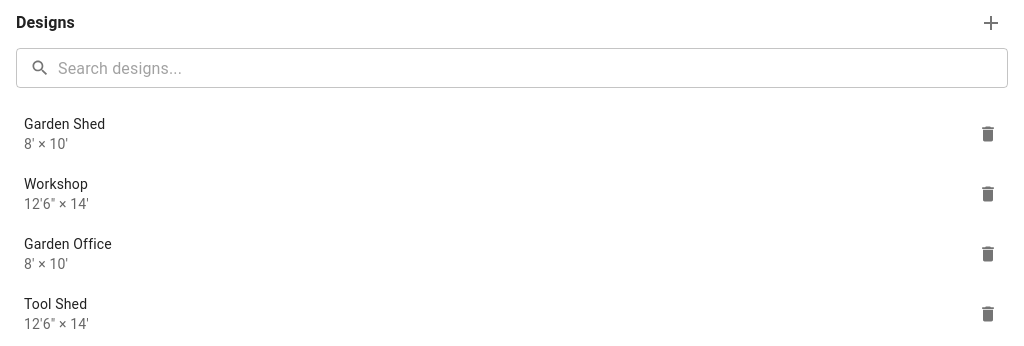
Test: DesignList › shows search box when more than 3 designs and filters results
Note: Type to filter
Type "garden" into the field with placeholder "Search designs..." at (533, 68), box [58, 48, 1008, 88]
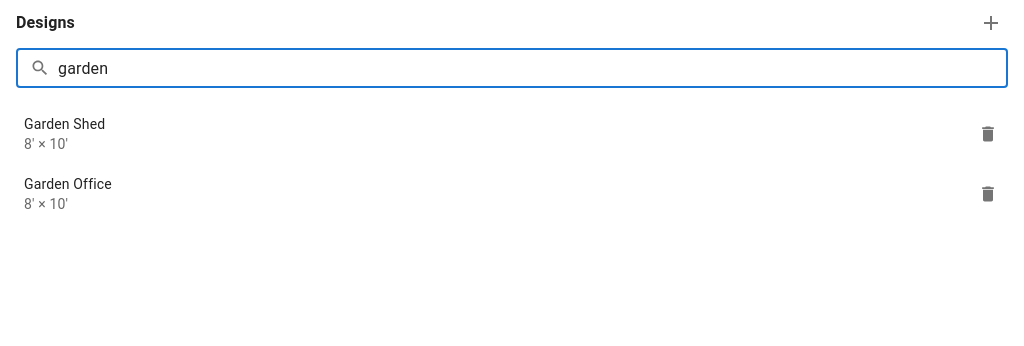
Expected: the text "Garden Shed" is shown, [24, 116, 105, 132]
Result: the button "Workshop" is gone
Result: the button "Tool Shed" is gone
